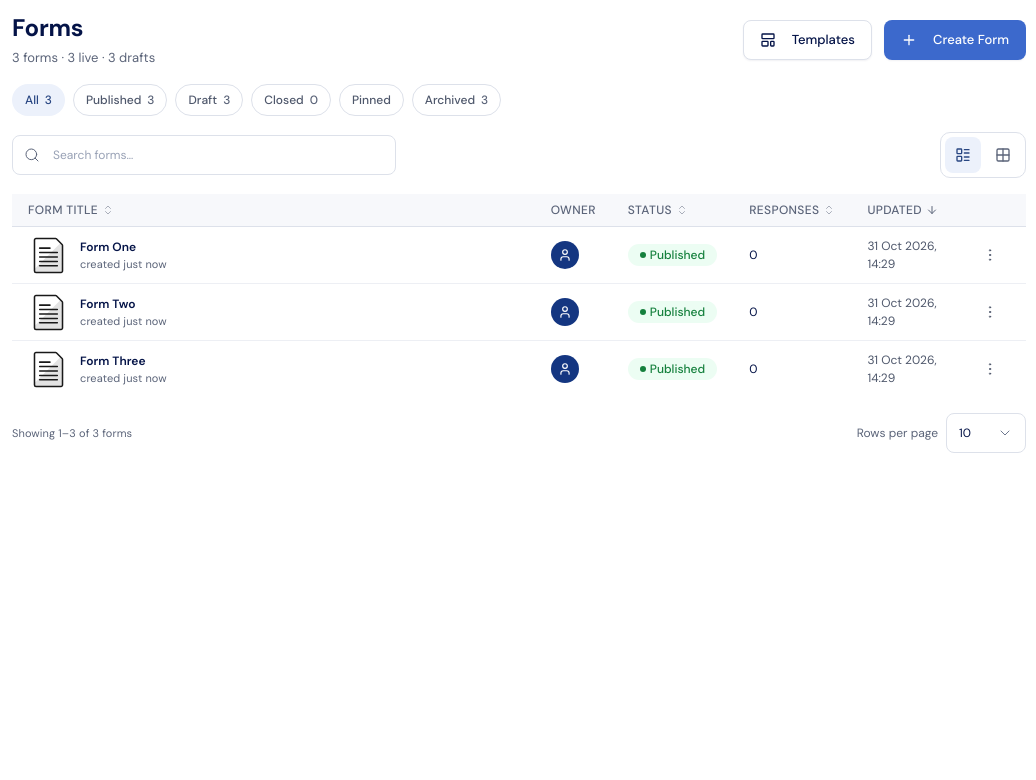
WorkspaceFormsPage — FormsPage rendered with workspace context › switching to the Pinned tab queries pinned=true and shows the pinned empty state
The image size is (1036, 780).
Expected: the link "Form One" is shown, x1=80 y1=238 x2=136 y2=256
Step 1. Click the button "Pinned" → (371, 100), box x1=339 y1=84 x2=404 y2=116
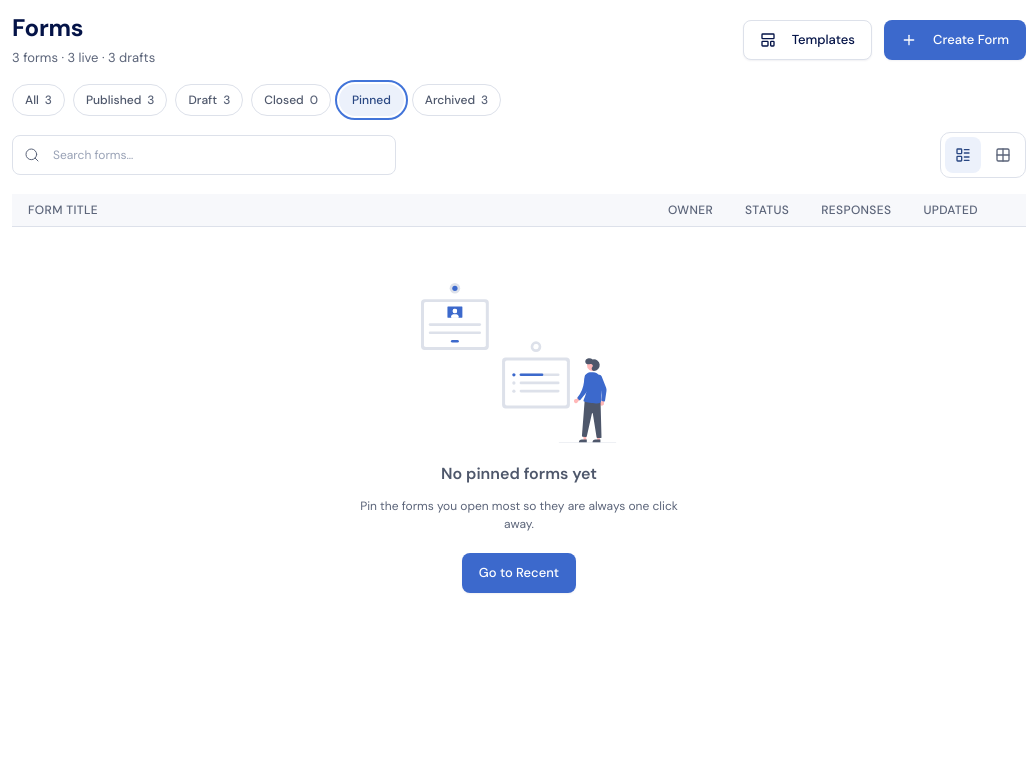
Expected: the heading "No pinned forms yet" is shown, x1=441 y1=463 x2=597 y2=485
